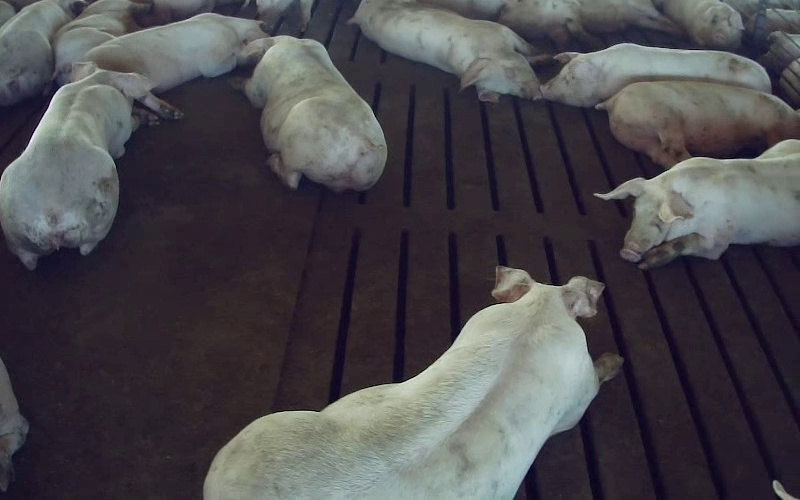pig: (205, 266, 622, 499), (0, 62, 149, 268), (595, 140, 799, 268), (240, 36, 386, 191), (350, 0, 539, 101), (598, 81, 799, 167), (541, 43, 770, 106), (85, 13, 266, 91), (53, 0, 149, 84), (662, 0, 743, 48)
